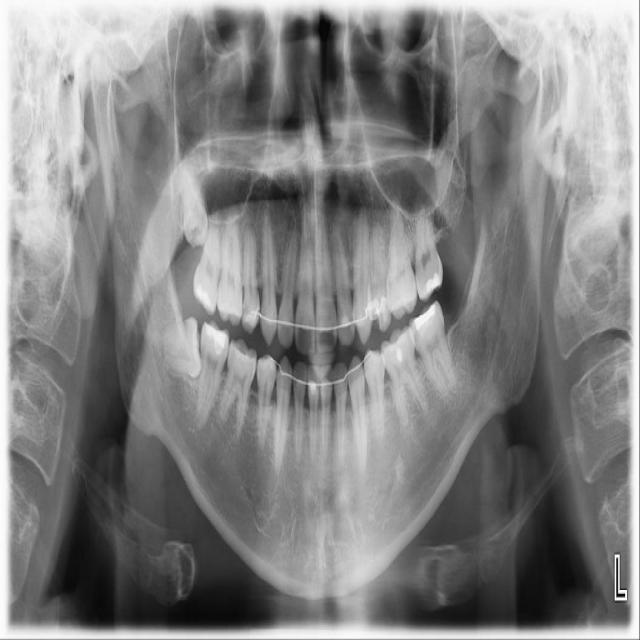3M ESPE Implant: (174, 163, 212, 251)
52: (396, 297, 459, 359), (371, 323, 426, 377), (189, 259, 223, 318), (196, 316, 233, 369), (412, 251, 447, 305)
73: (568, 572, 574, 590)
BioHorizons Implant: (414, 192, 443, 303)
Blue Sky Bio Implant: (404, 301, 460, 405)
Caries: (190, 211, 228, 317)
Implant: (192, 318, 232, 431)
Keystone Dental Implant: (157, 315, 208, 384)
